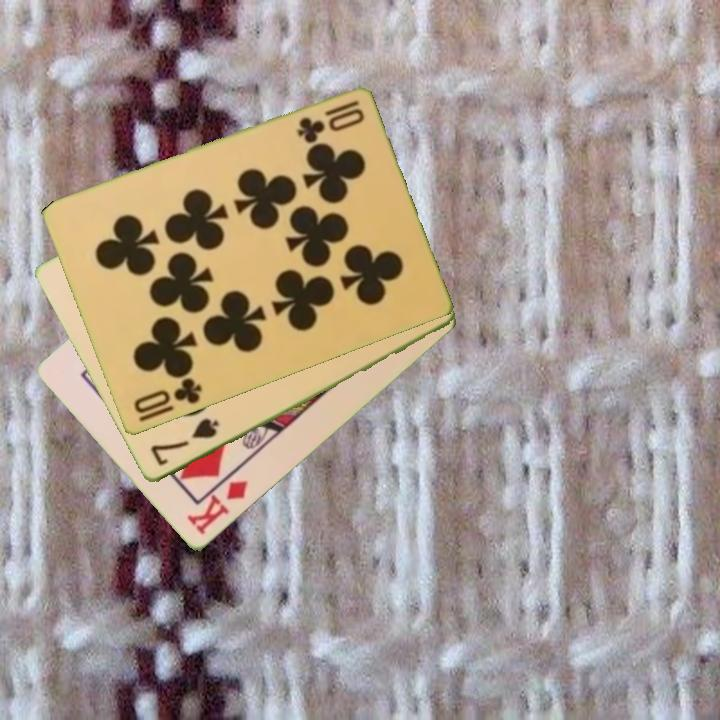10c: (130, 374, 205, 426), (293, 97, 367, 145)
7s: (146, 415, 222, 470)
Kd: (183, 477, 251, 539)
